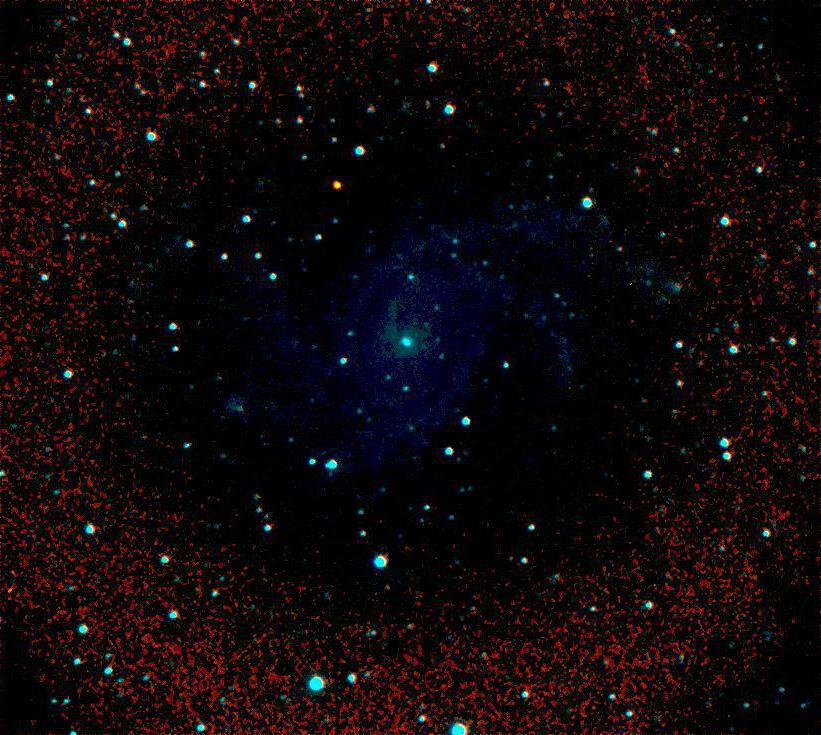star: (321, 168, 351, 198)
